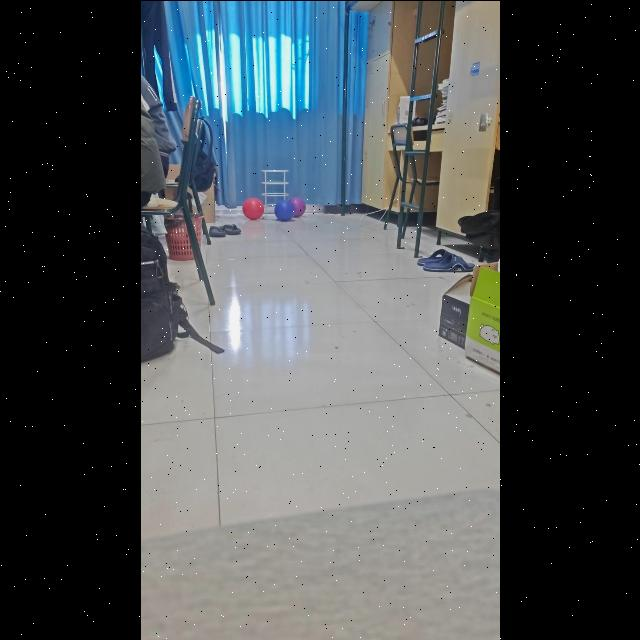B: (274, 199, 294, 221)
P: (289, 196, 306, 217)
R: (241, 196, 263, 220)
S: (262, 169, 288, 212)
